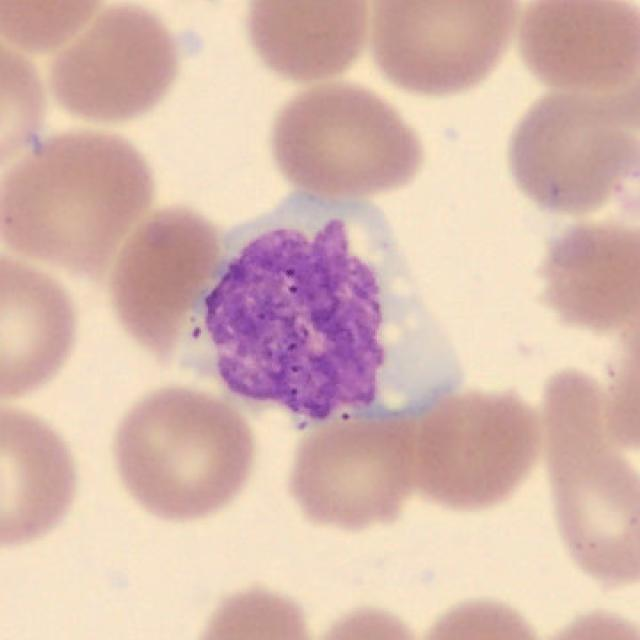Linfocito atipico: (192, 194, 464, 428)
